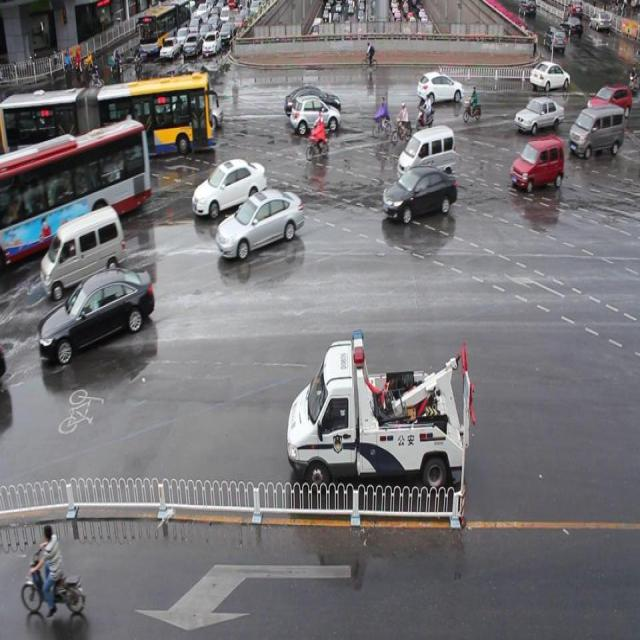bus: (286, 325, 474, 495)
car: (40, 268, 155, 360), (218, 188, 305, 260), (193, 158, 265, 211), (382, 168, 458, 218), (510, 135, 563, 191), (165, 91, 222, 129), (282, 81, 340, 116), (514, 95, 563, 131), (292, 96, 340, 132), (417, 70, 463, 104), (586, 84, 630, 119), (527, 59, 569, 92)
truck: (40, 206, 125, 294), (567, 103, 624, 157), (396, 126, 454, 177)
van: (0, 121, 148, 262), (1, 72, 212, 154)
